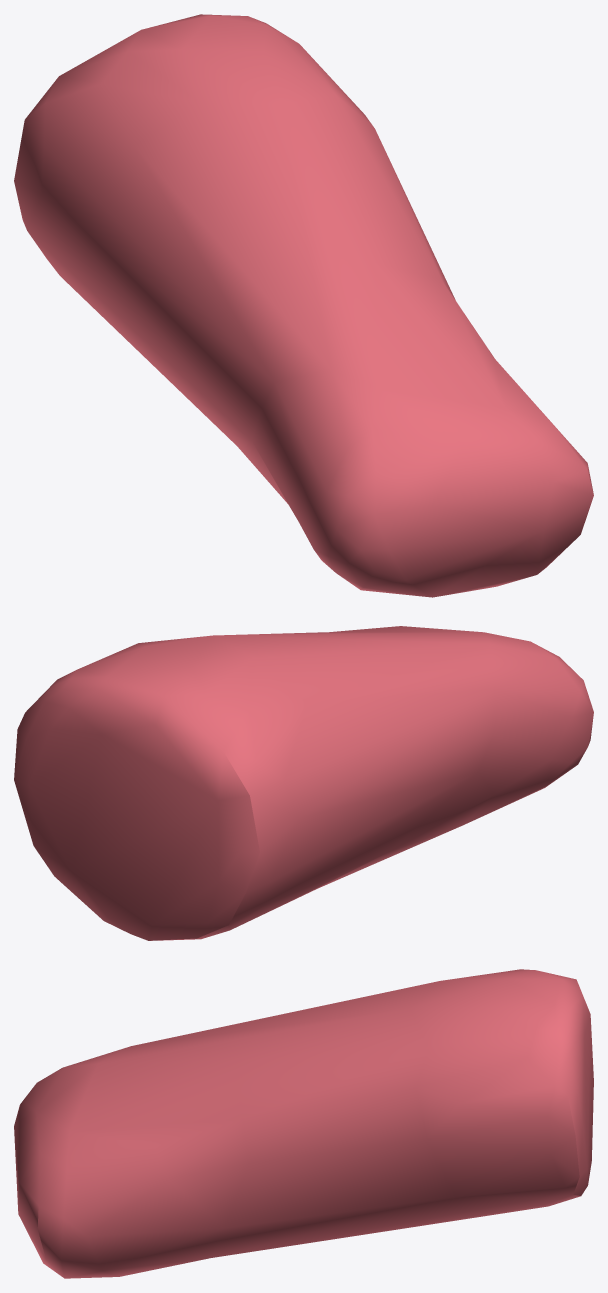
Rendered from fma14812_fj3421.glb.
3 renders of one model, top to bottom at view 1: azimuth 30°, elevation 25°; view 2: azimuth 150°, elevation 25°; view 3: azimuth 270°, elevation 25°, orthographic. The views are drawn at different scales.
Visible parts, largest first — view 1: FMA14812_FJ3421; view 2: FMA14812_FJ3421; view 3: FMA14812_FJ3421.
Boxes of the visible parts, x1,y1,x2,y2 form: FMA14812_FJ3421: (14,14,593,597); FMA14812_FJ3421: (14,626,593,940); FMA14812_FJ3421: (14,969,593,1278).
Bounding box in the file's own units: 0.0111 × 0.0122 × 0.0232.
